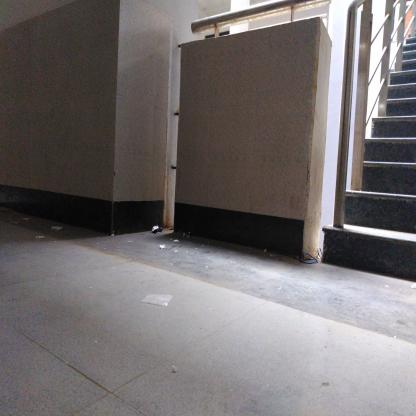stairs: (393, 71, 416, 293)
